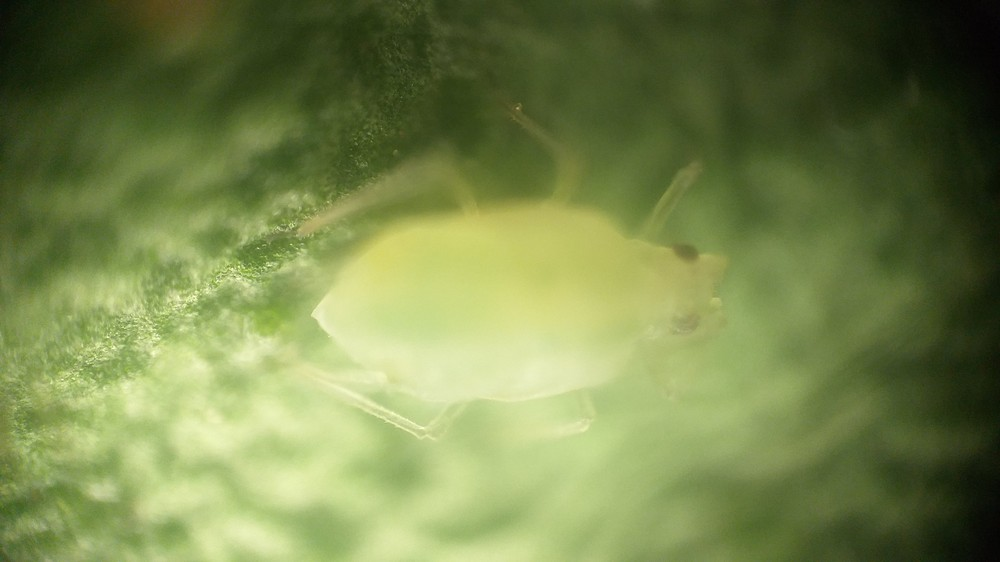Pulgon: (284, 93, 787, 509)
